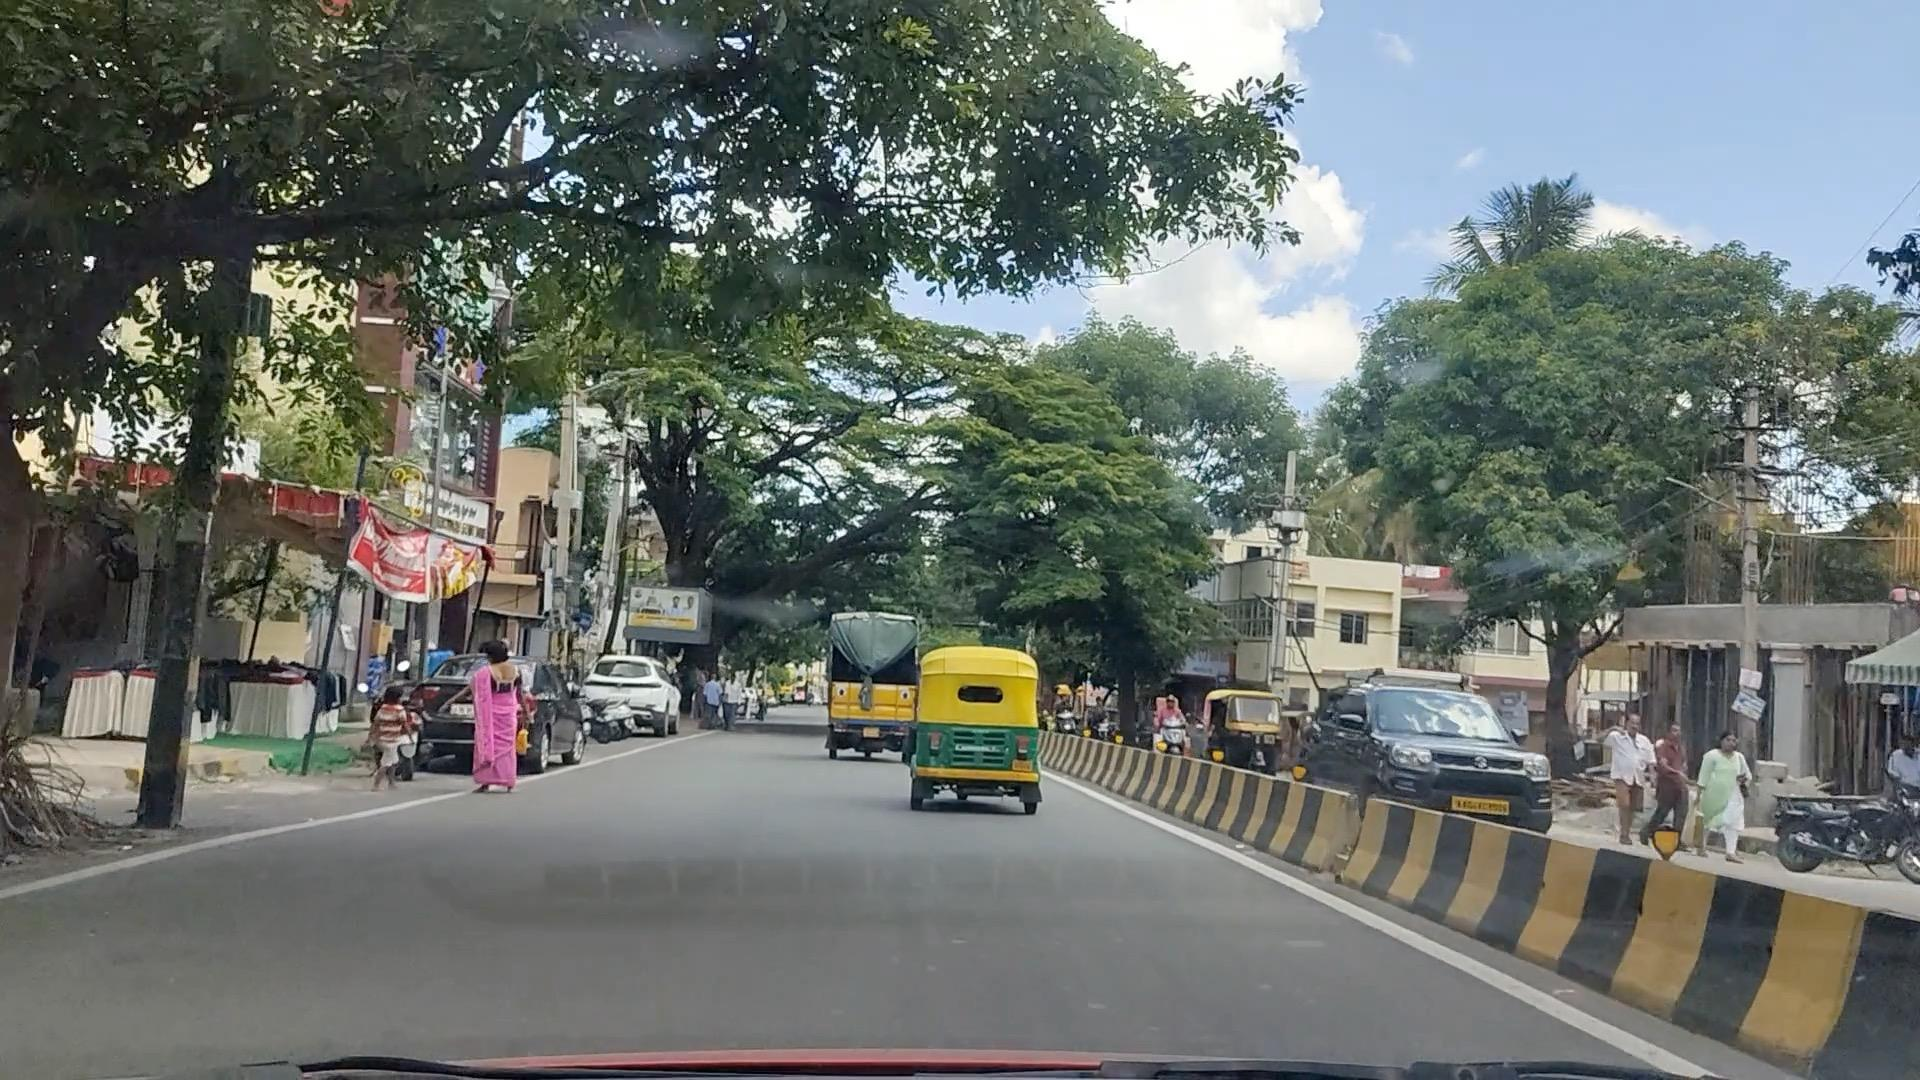HMV: (832, 615, 907, 745)
LMV: (918, 647, 1033, 787)
